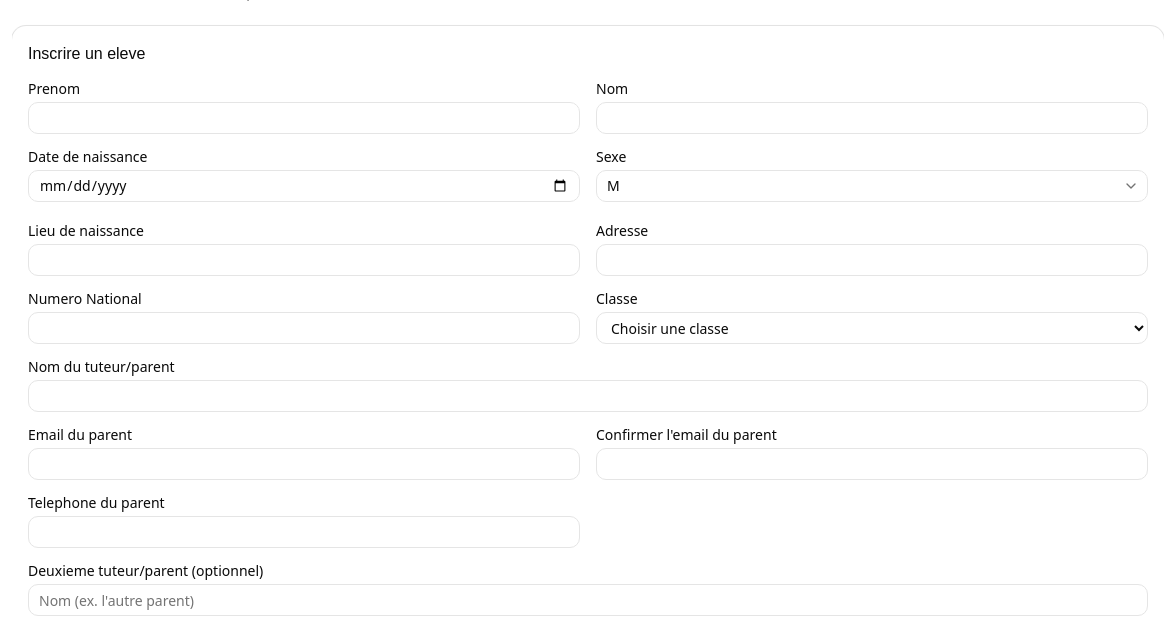
it: RegistrationPage › emails du parent differents : bloque l'envoi sans appeler l'API
Type "Jean" into the field labelled "Prenom" at (304, 118), box [28,102,580,134]
Type "Dupont" into the field labelled "Nom" at (872, 118), box [596,102,1148,134]
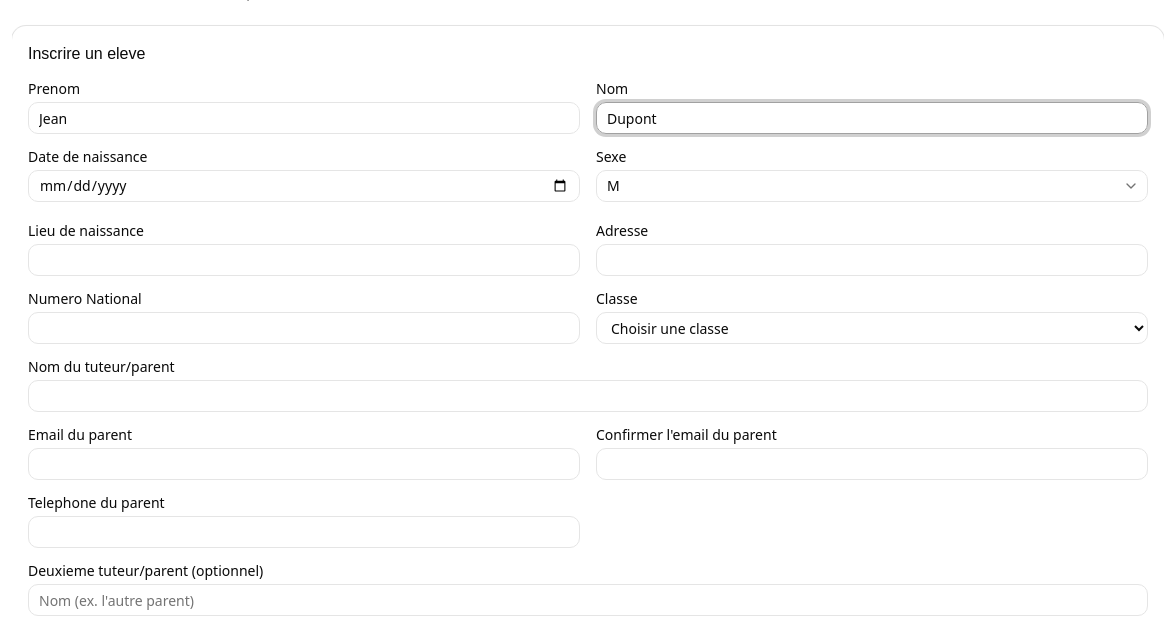
Type "2013-05-10" into the date field labelled "Date de naissance" at (304, 186), box [28,170,580,202]
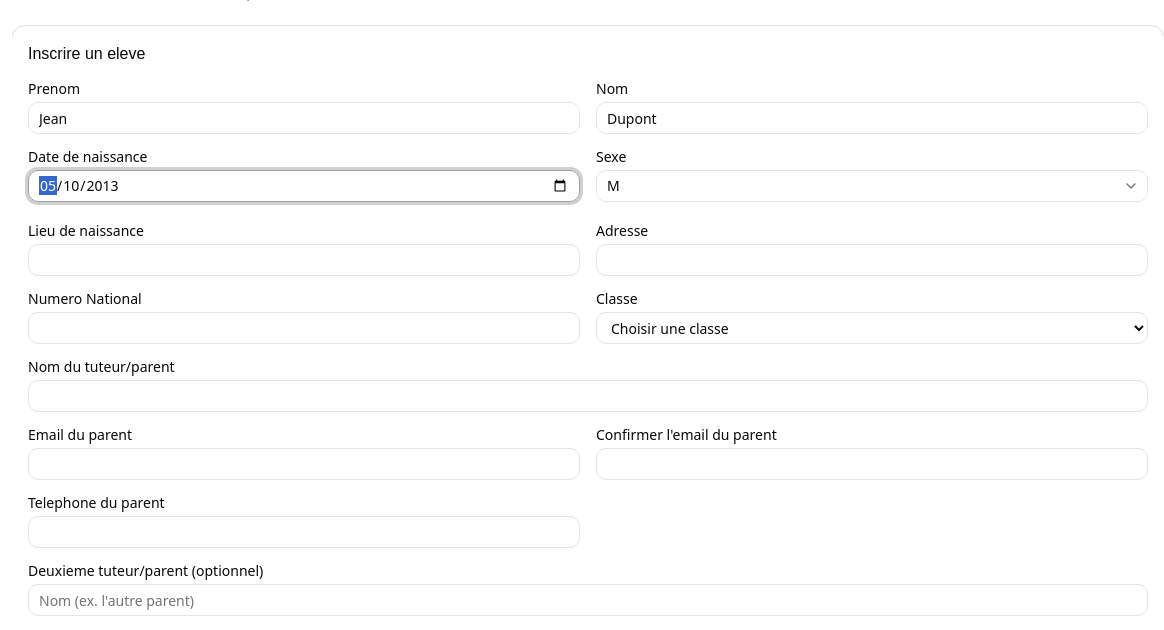
Select "6eme A (6eme - 2025-2026)" in the dropdown with id "classId" at (872, 328), box [596,312,1148,344]
Type "Marie Dupont" into the field labelled "Nom du tuteur/parent" at (588, 396), box [28,380,1148,412]
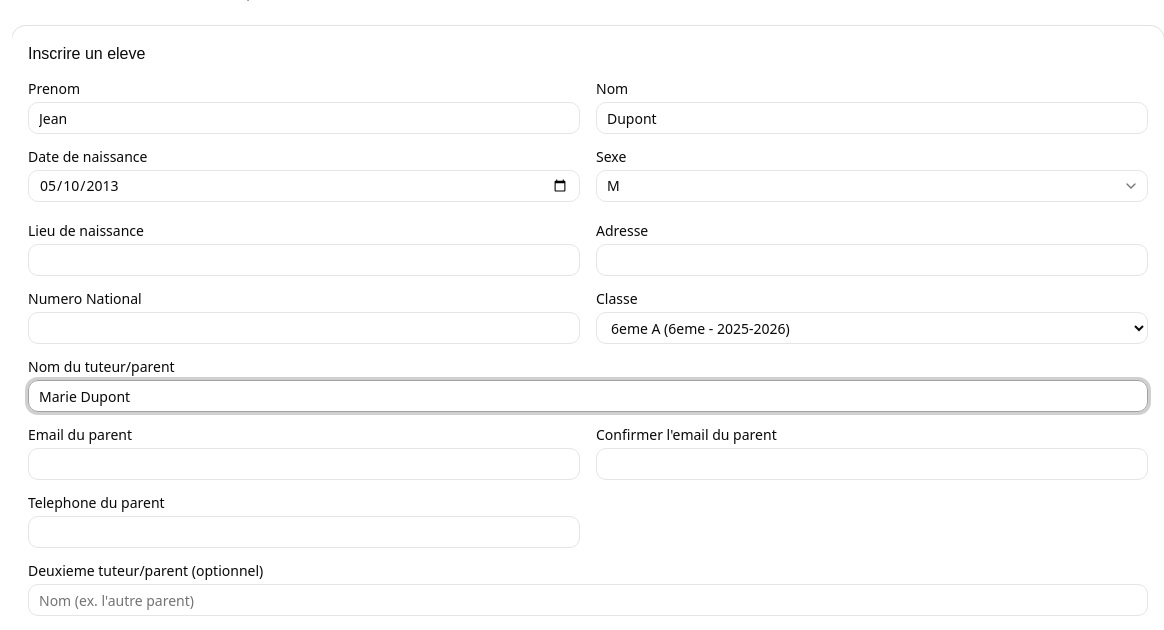
Type "marie@example.cm" into the field labelled "Email du parent" at (304, 464), box [28,448,580,480]
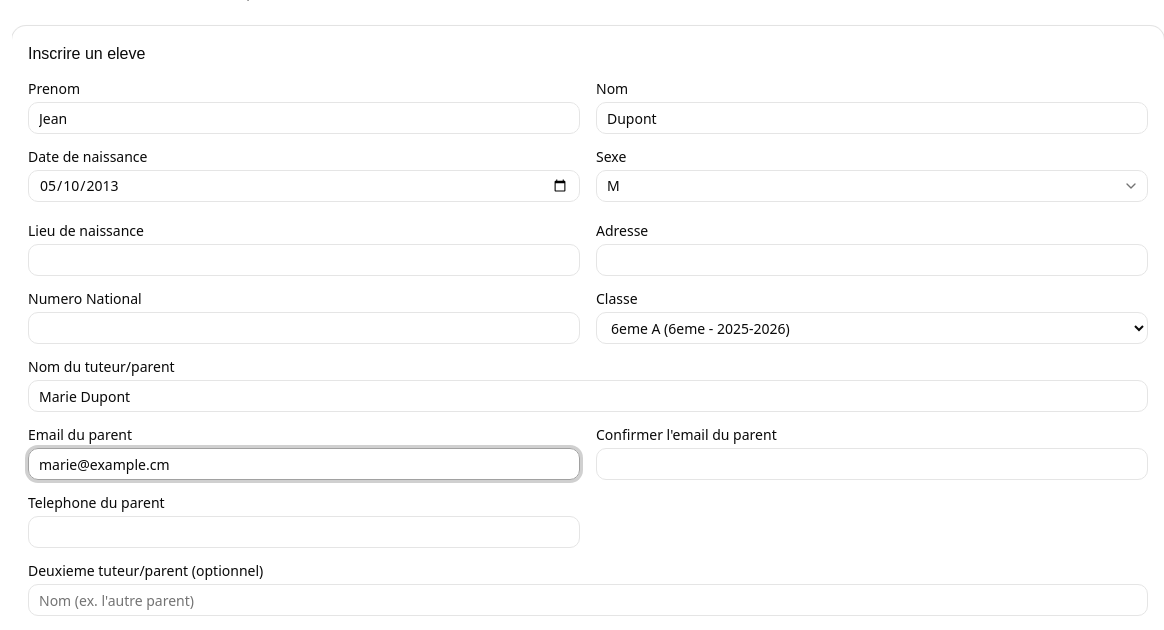
Type "marie-typo@example.cm" into the field labelled "Confirmer l'email du parent" at (872, 464), box [596,448,1148,480]
(page scrolled)
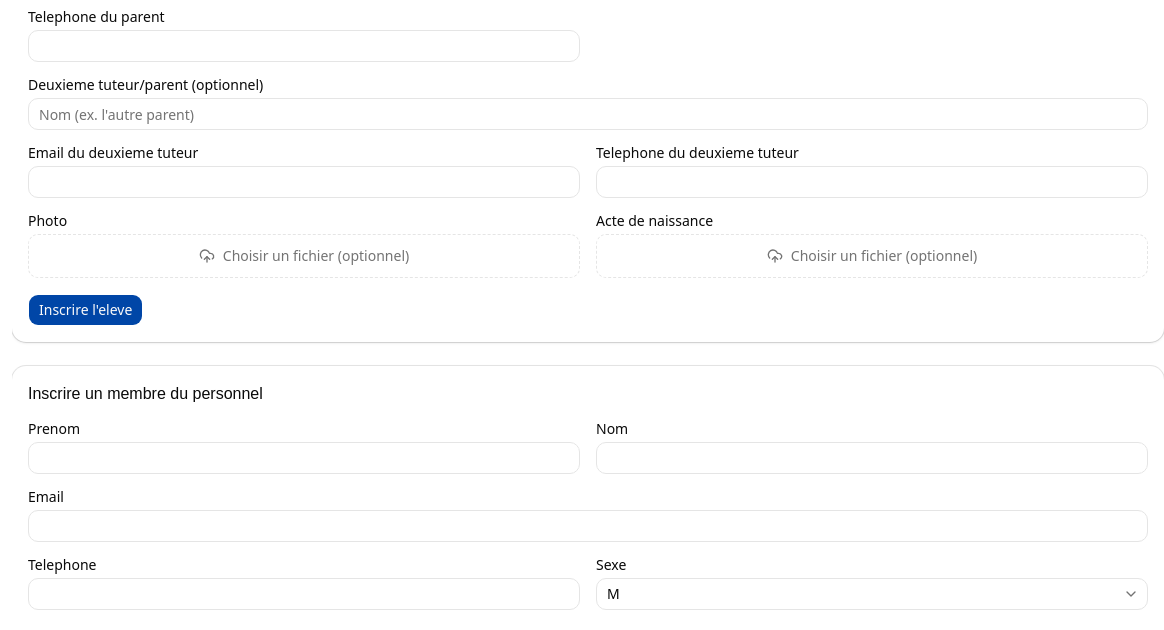
Click the button "Inscrire l'eleve" at (86, 310), box [28,294,143,326]
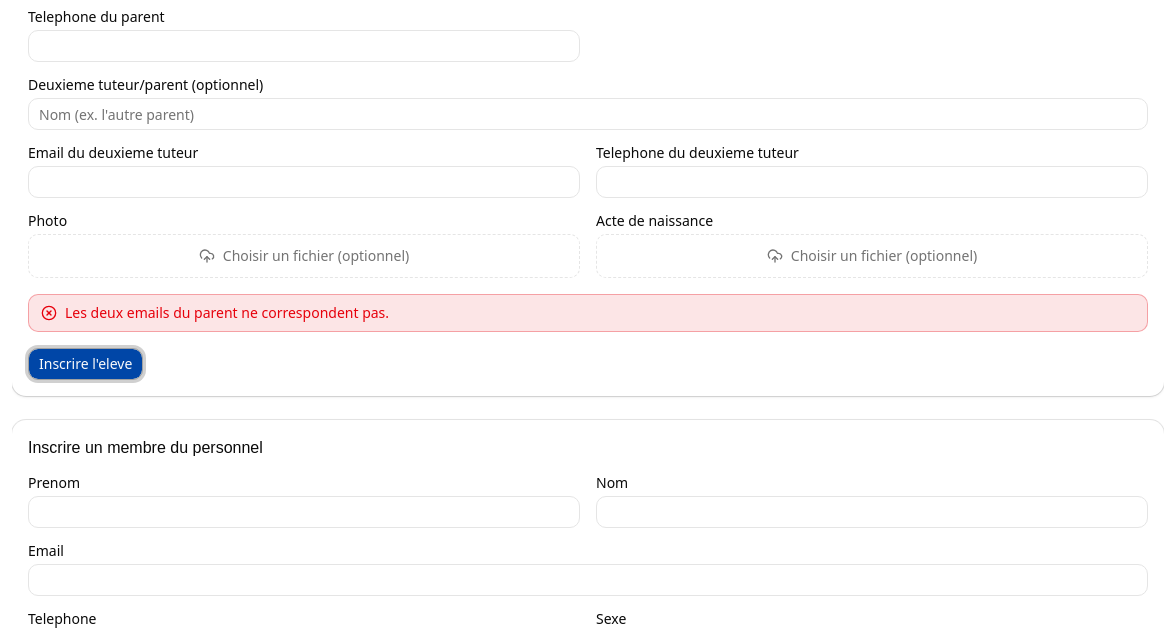
Expected: the text "Les deux emails du parent ne correspondent pas." is shown, [65,303,389,323]
